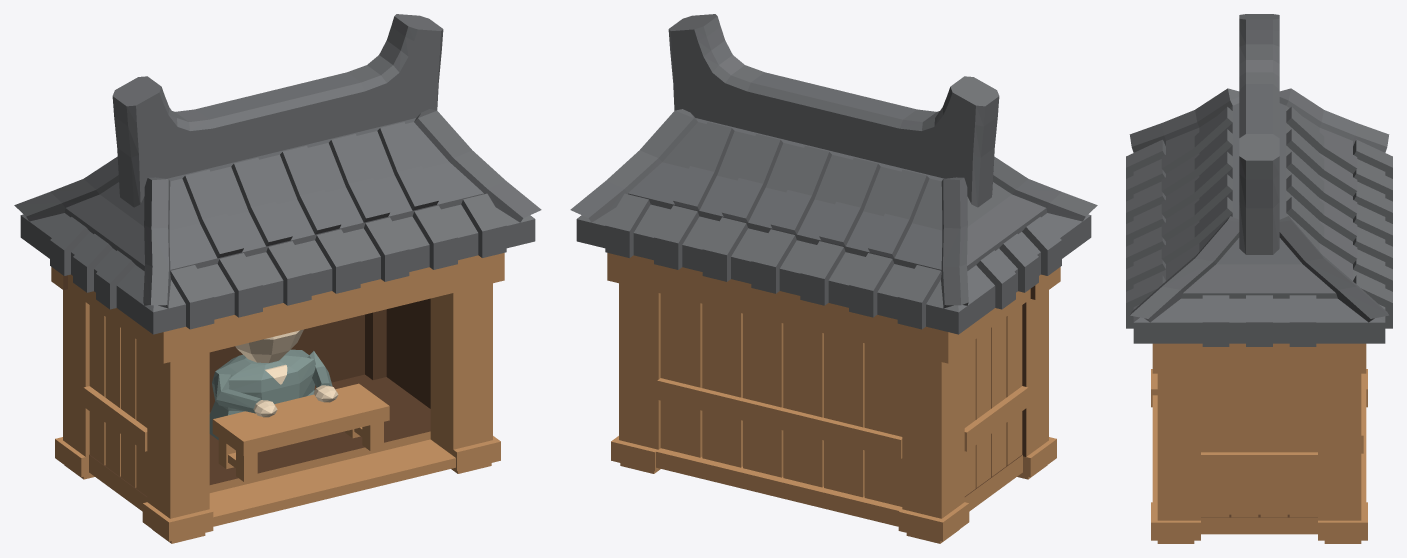
File: KANJI_29_GAKU.fbx
3 views of the same model, side by side, from view 1: azimuth 30°, elevation 25°; view 2: azimuth 150°, elevation 25°; view 3: azimuth 270°, elevation 25° (orthographic). The views are drawn at different scales.
Parts seen in each view (by area): view 1: SM_KANJI_29_Gaku; view 2: SM_KANJI_29_Gaku; view 3: SM_KANJI_29_Gaku.
Boxes of the visible parts, left/top/right/bottom form: SM_KANJI_29_Gaku: left=14, top=14, right=541, bottom=543; SM_KANJI_29_Gaku: left=570, top=14, right=1097, bottom=543; SM_KANJI_29_Gaku: left=1126, top=14, right=1392, bottom=543.
Size of the model in its own units: 0.26 by 0.26 by 0.16.
